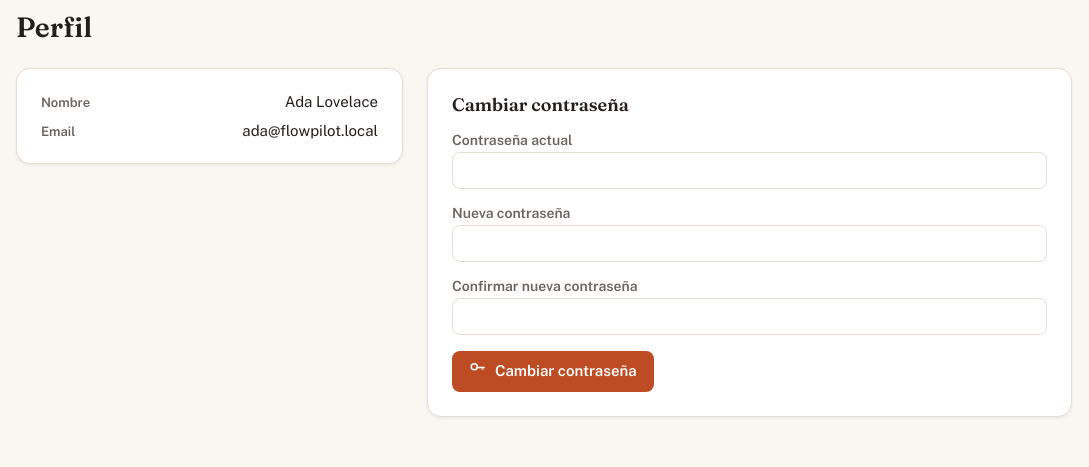
it: ProfileComponent › clears the password fields and shows a success message once the change succeeds
Type "oldSecret1" into the password field with test id "profile-current-password". click: (750, 170)
box: left=452, top=152, right=1047, bottom=189
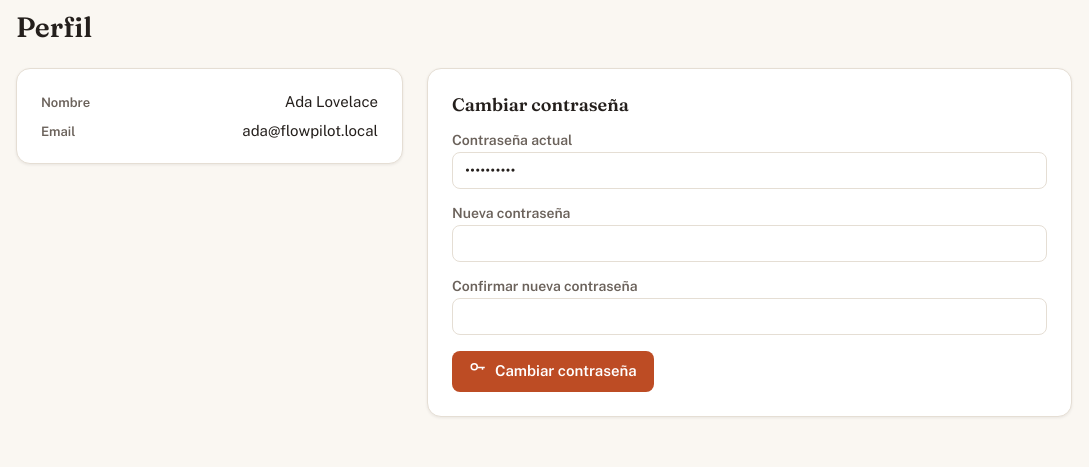
Type "newSecret1" into the password field with test id "profile-new-password". click: (750, 244)
box: left=452, top=225, right=1047, bottom=262
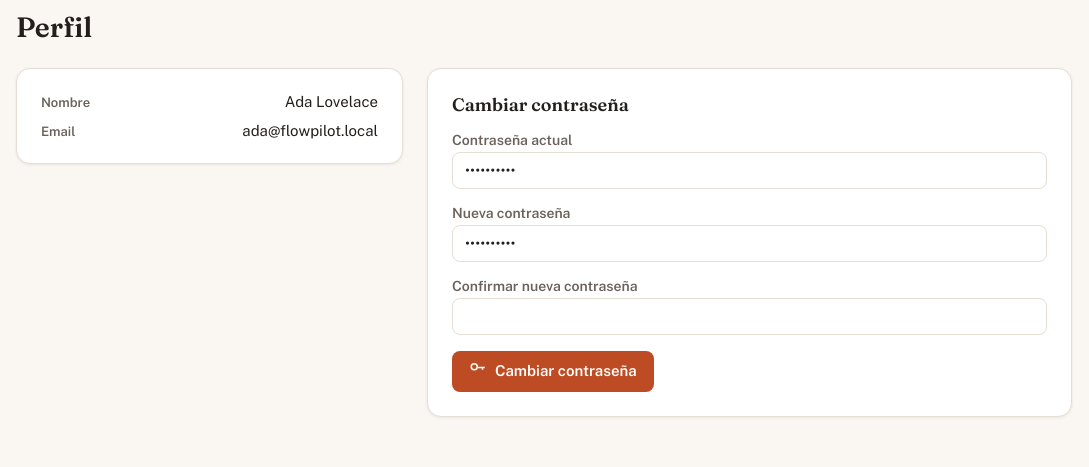
Type "newSecret1" into the password field with test id "profile-confirm-password". click: (750, 316)
box: left=452, top=298, right=1047, bottom=335
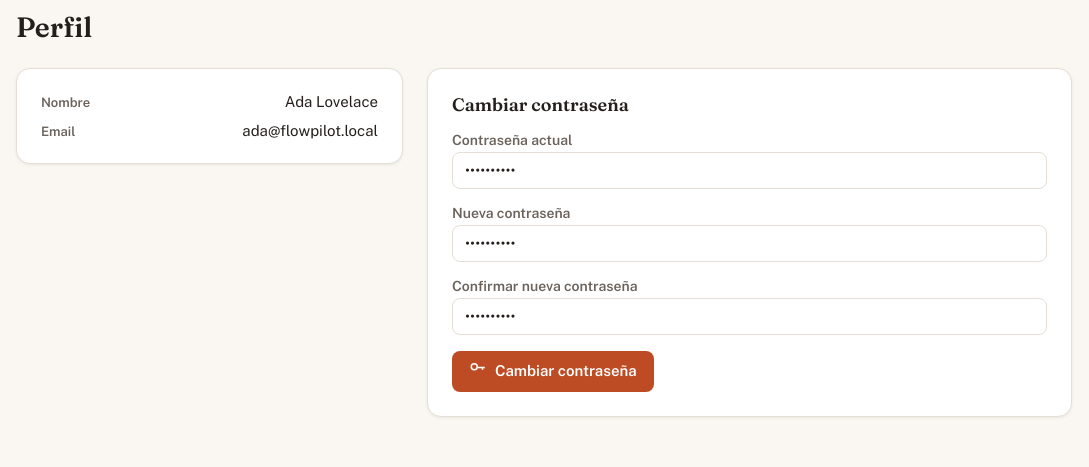
Submit the form, box left=452, top=93, right=1047, bottom=392
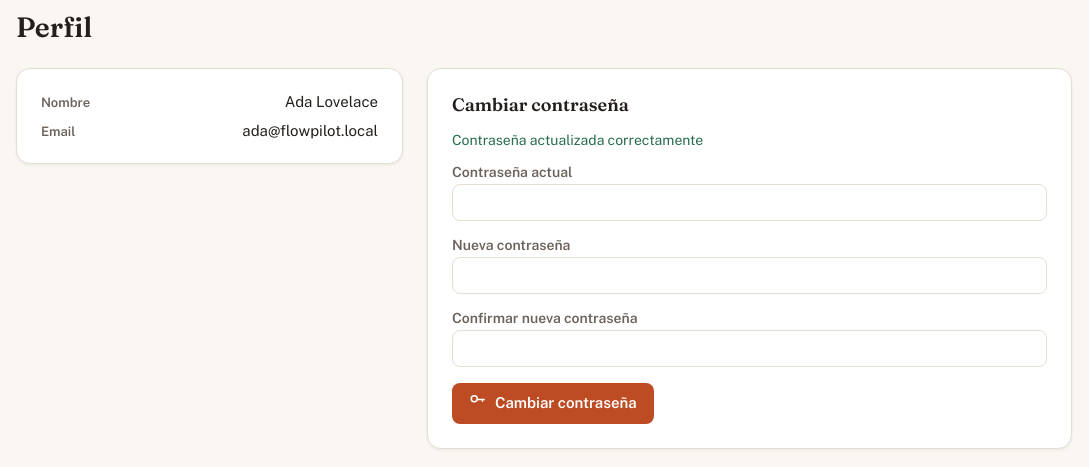
Check: the message "Contraseña actualizada correctamente" is shown, box left=452, top=132, right=703, bottom=148
Check: the password field with test id "profile-current-password" is empty, box left=452, top=184, right=1047, bottom=221
Check: the password field with test id "profile-new-password" is empty, box left=452, top=257, right=1047, bottom=294
